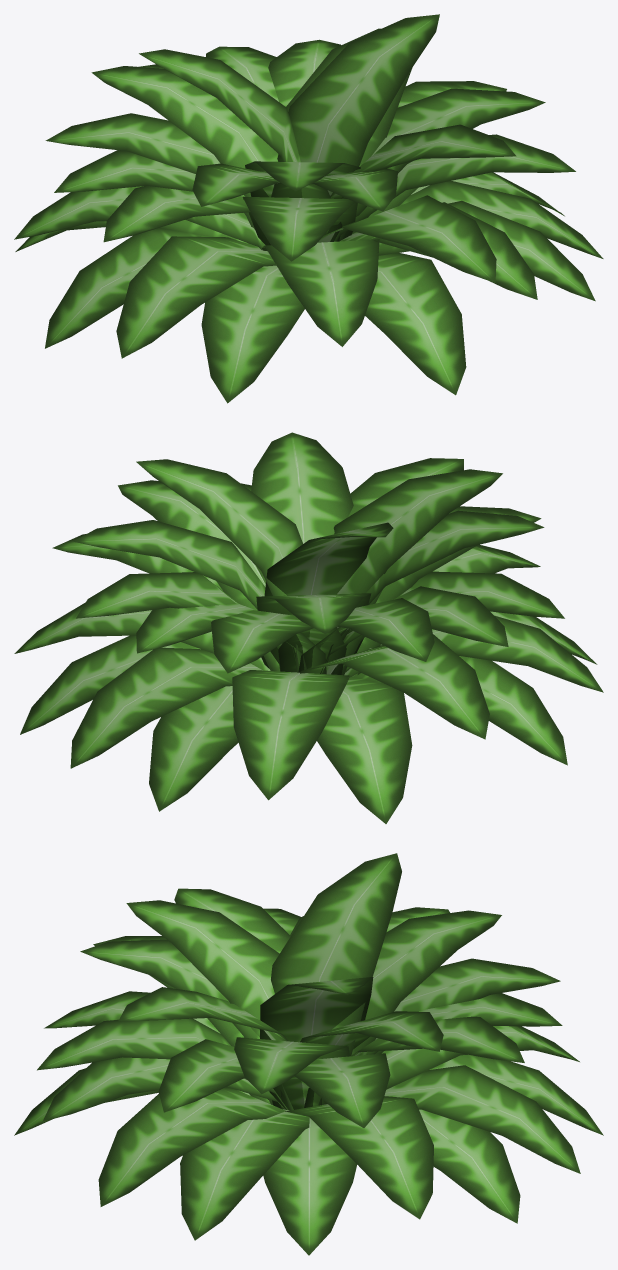
The model's file is arbusto1.fbx.
The picture shows the model from 3 angles, top to bottom: view 1: azimuth 30°, elevation 25°; view 2: azimuth 150°, elevation 25°; view 3: azimuth 270°, elevation 25°; orthographic projection. The views are drawn at different scales.
Parts seen in each view (by area): view 1: pPlane36, pPlane11, pPlane6, pPlane5, pPlane10, pPlane28, pPlane25, pPlane4, pPlane35, pPlane20, pPlane31, pPlane18 (+17 smaller); view 2: pPlane13, pPlane3, pPlane14, pPlane34, pPlane36, pPlane32, pPlane12, pPlane2, pPlane30, pPlane35, pPlane4, pPlane22 (+16 smaller); view 3: pPlane35, pPlane7, pPlane16, pPlane14, pPlane15, pPlane34, pPlane8, pPlane28, pPlane9, pPlane25, pPlane23, pPlane36 (+16 smaller).
Boxes of the visible parts, left/top/right/bottom form: pPlane36: left=277, top=14, right=439, bottom=241; pPlane11: left=116, top=236, right=276, bottom=358; pPlane6: left=365, top=253, right=466, bottom=395; pPlane5: left=201, top=265, right=304, bottom=403; pPlane10: left=262, top=239, right=379, bottom=346; pPlane28: left=91, top=66, right=278, bottom=196; pPlane25: left=318, top=195, right=496, bottom=282; pPlane4: left=45, top=228, right=215, bottom=348; pPlane35: left=139, top=49, right=300, bottom=162; pPlane20: left=45, top=113, right=244, bottom=196; pPlane31: left=339, top=88, right=545, bottom=241; pPlane18: left=242, top=196, right=357, bottom=261; pPlane13: left=232, top=670, right=349, bottom=800; pPlane3: left=317, top=677, right=412, bottom=823; pPlane14: left=70, top=647, right=262, bottom=768; pPlane34: left=331, top=469, right=502, bottom=674; pPlane36: left=136, top=459, right=302, bottom=672; pPlane32: left=251, top=432, right=353, bottom=583; pPlane12: left=300, top=634, right=489, bottom=739; pPlane2: left=149, top=686, right=238, bottom=811; pPlane30: left=73, top=520, right=298, bottom=670; pPlane35: left=264, top=522, right=393, bottom=596; pPlane4: left=352, top=656, right=567, bottom=765; pPlane22: left=76, top=572, right=306, bottom=669; pPlane35: left=271, top=853, right=401, bottom=1056; pPlane7: left=98, top=1087, right=285, bottom=1206; pPlane16: left=180, top=1109, right=309, bottom=1240; pPlane14: left=384, top=1065, right=580, bottom=1173; pPlane15: left=285, top=1096, right=433, bottom=1219; pPlane34: left=126, top=900, right=282, bottom=1109; pPlane8: left=263, top=1118, right=357, bottom=1255; pPlane28: left=351, top=910, right=501, bottom=1055; pPlane9: left=419, top=1109, right=520, bottom=1223; pPlane25: left=37, top=1018, right=287, bottom=1109; pPlane23: left=269, top=1053, right=390, bottom=1127; pPlane36: left=260, top=977, right=373, bottom=1042.
Size of the model in its own units: 3.94 by 1.65 by 3.94.
